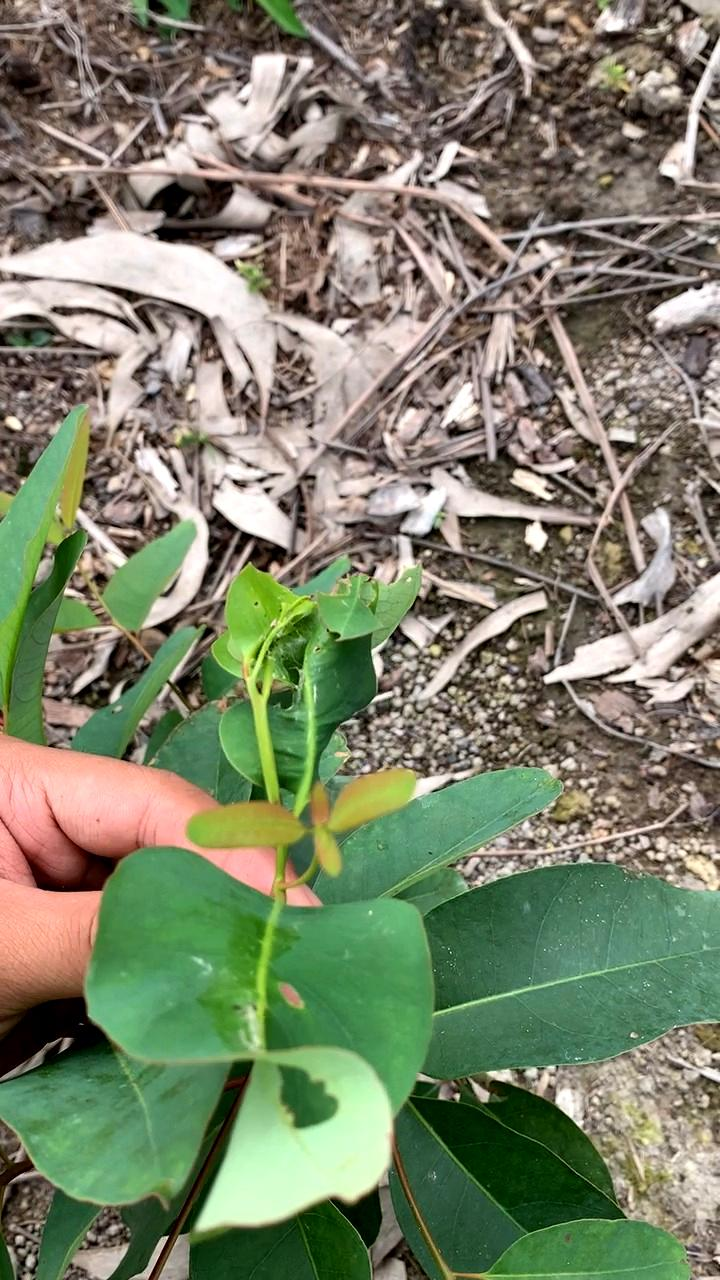Leaf Roller - Leaf: (223, 563, 401, 735)
